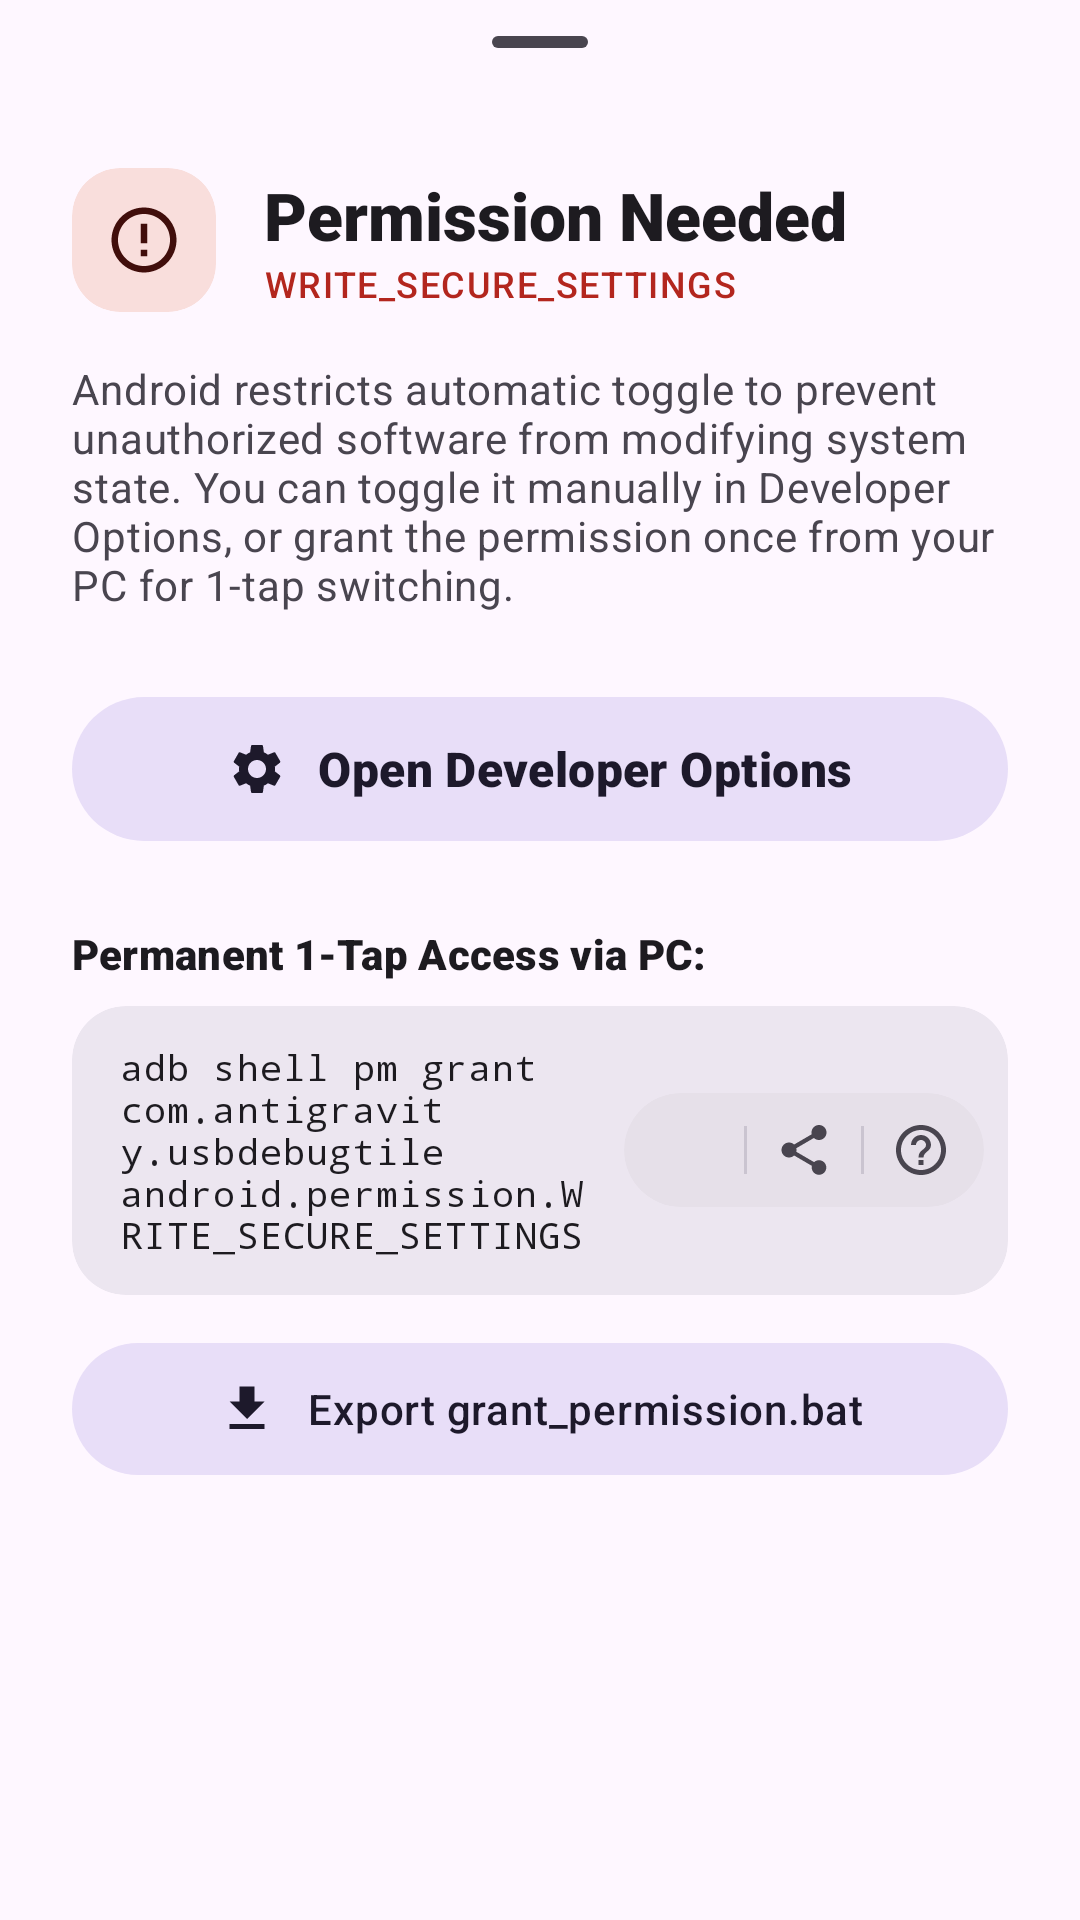

Named icons in this screenshot (1080*1920) and their centers, (x,y):
Permission Alert: (144,240)
Share to PC: (804,1150)
Why is this needed?: (921,1150)
